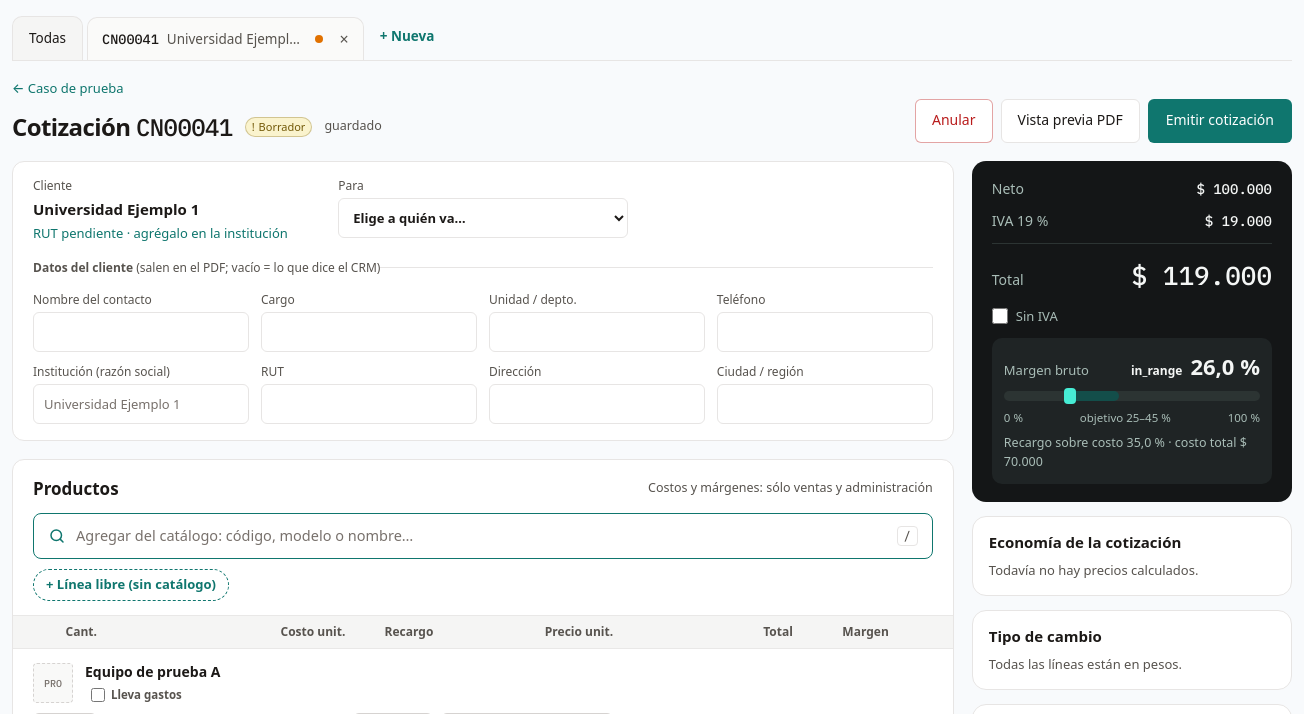
Scenario: Cotizador module — tabs › «Todas» shows the list pane
Click the tab "Todas". click: click(48, 38)
box: [12,16,83,60]
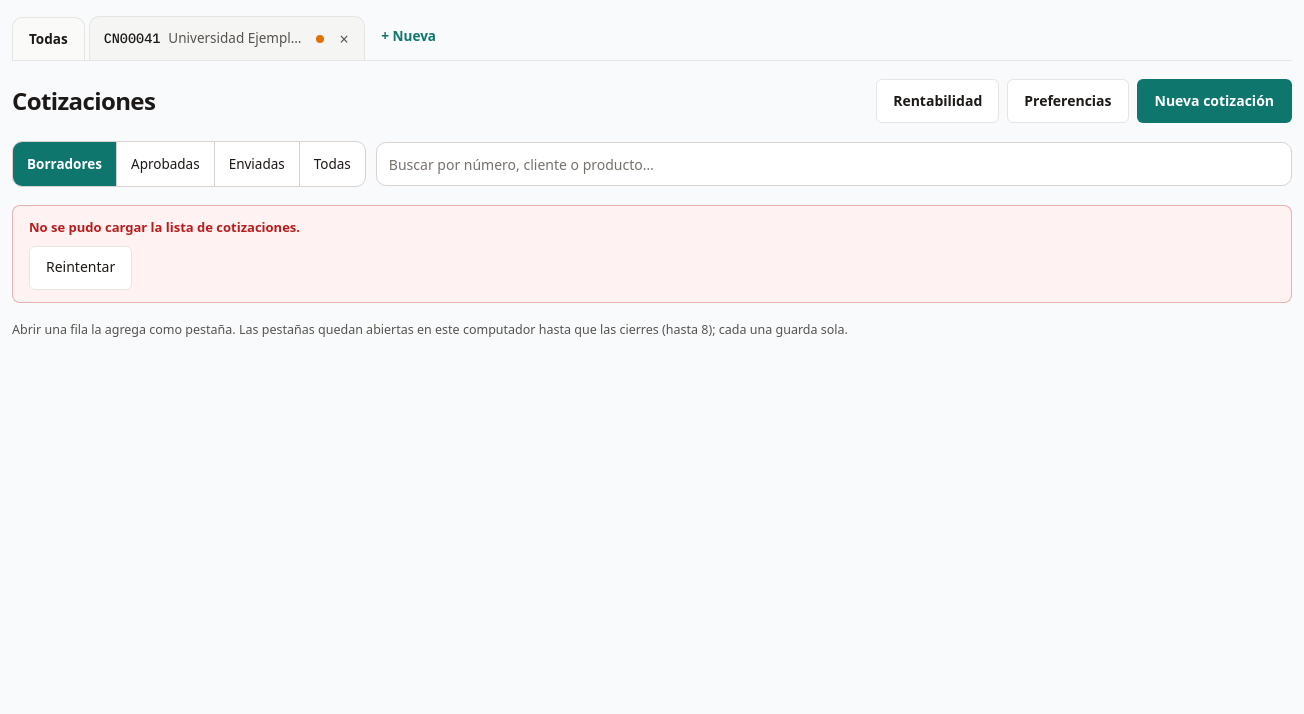
Expected: the heading "Cotizaciones" is shown, [12,85,155,117]
